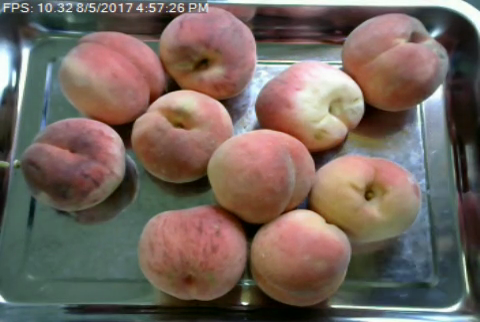Peach: (340, 11, 448, 113), (137, 206, 247, 300), (255, 58, 359, 155), (21, 117, 128, 211), (250, 208, 350, 306), (61, 29, 163, 125), (309, 153, 419, 240), (135, 89, 234, 185), (207, 128, 307, 222), (159, 6, 256, 99)
